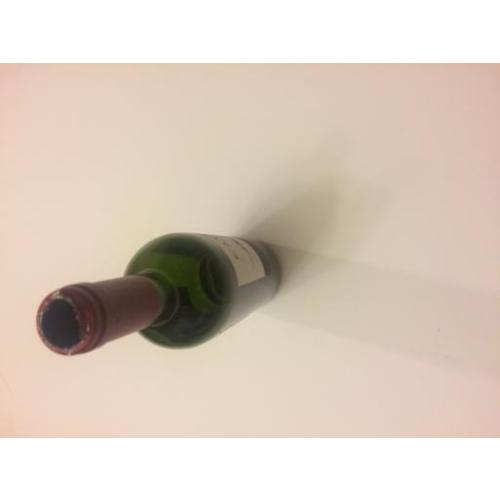glass: (47, 234, 286, 354)
